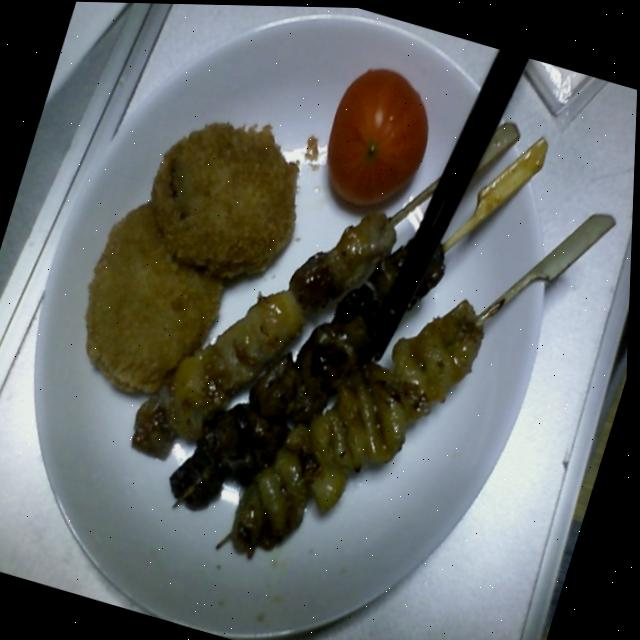炸货点心: (54, 34, 254, 295)
烧串烤肉: (92, 72, 412, 415)
